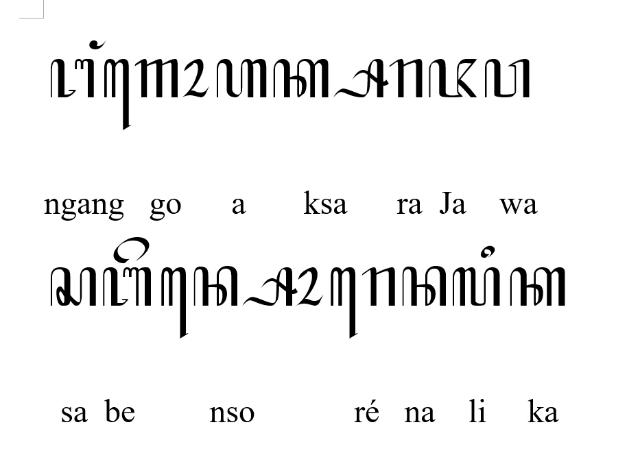_s: (242, 266, 298, 307), (334, 59, 390, 99)
b: (101, 266, 152, 308)
e: (112, 236, 150, 264)
e1: (330, 266, 358, 340), (160, 268, 188, 340), (104, 59, 130, 132)
g: (134, 58, 178, 98)
h: (216, 57, 268, 99)
i: (480, 244, 496, 260)
j: (428, 58, 478, 98)
k: (508, 266, 566, 307), (273, 58, 329, 98)
l: (451, 266, 501, 307)
n: (400, 266, 448, 307), (193, 266, 239, 307)
ng: (90, 40, 106, 50)
nga: (50, 58, 94, 98)
o: (296, 267, 324, 307), (183, 58, 209, 98)
r: (388, 58, 424, 98), (362, 266, 396, 307)
s: (49, 265, 97, 307)
w: (484, 58, 530, 100)
